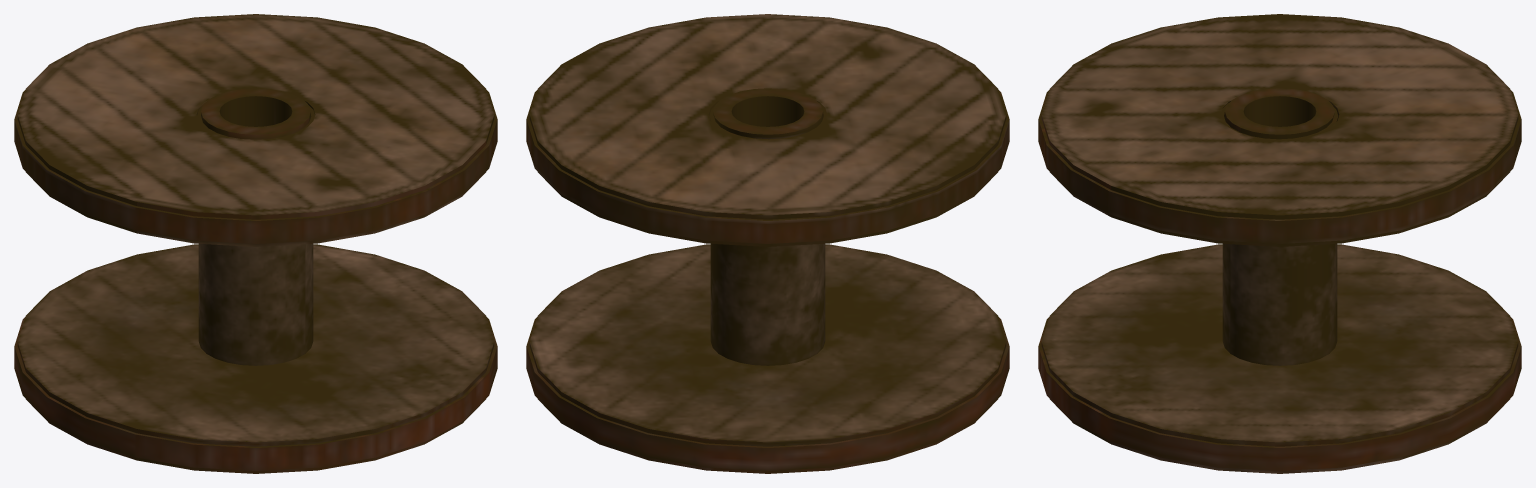
Rendered from Empty Spool.fbx.
The picture shows the model from 3 angles, left to right: view 1: azimuth 30°, elevation 25°; view 2: azimuth 150°, elevation 25°; view 3: azimuth 270°, elevation 25°; orthographic projection.
Parts seen in each view (by area): view 1: Cylinder.001; view 2: Cylinder.001; view 3: Cylinder.001.
Boxes of the visible parts, x1,y1,x2,y2 form: Cylinder.001: (14, 14, 497, 473); Cylinder.001: (526, 14, 1009, 473); Cylinder.001: (1038, 14, 1521, 473).
Bounding box in the file's own units: 127 × 76.83 × 127.
